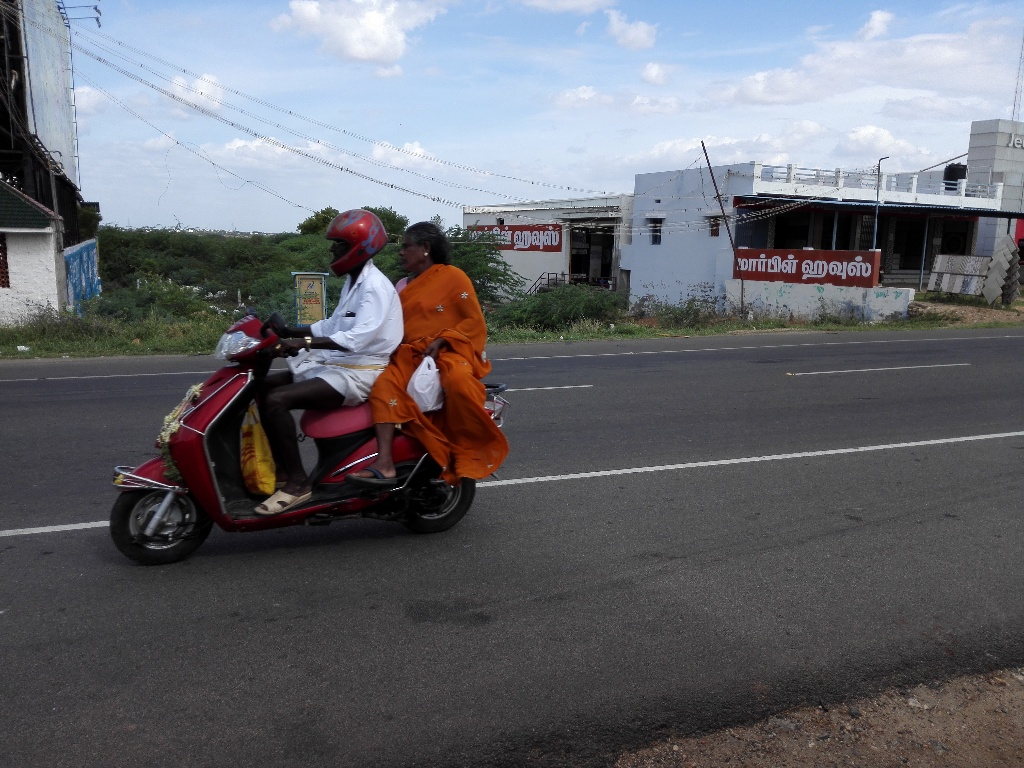biker: (93, 168, 541, 573)
helmet: (307, 192, 389, 291)
nohelmet: (393, 212, 460, 290)
